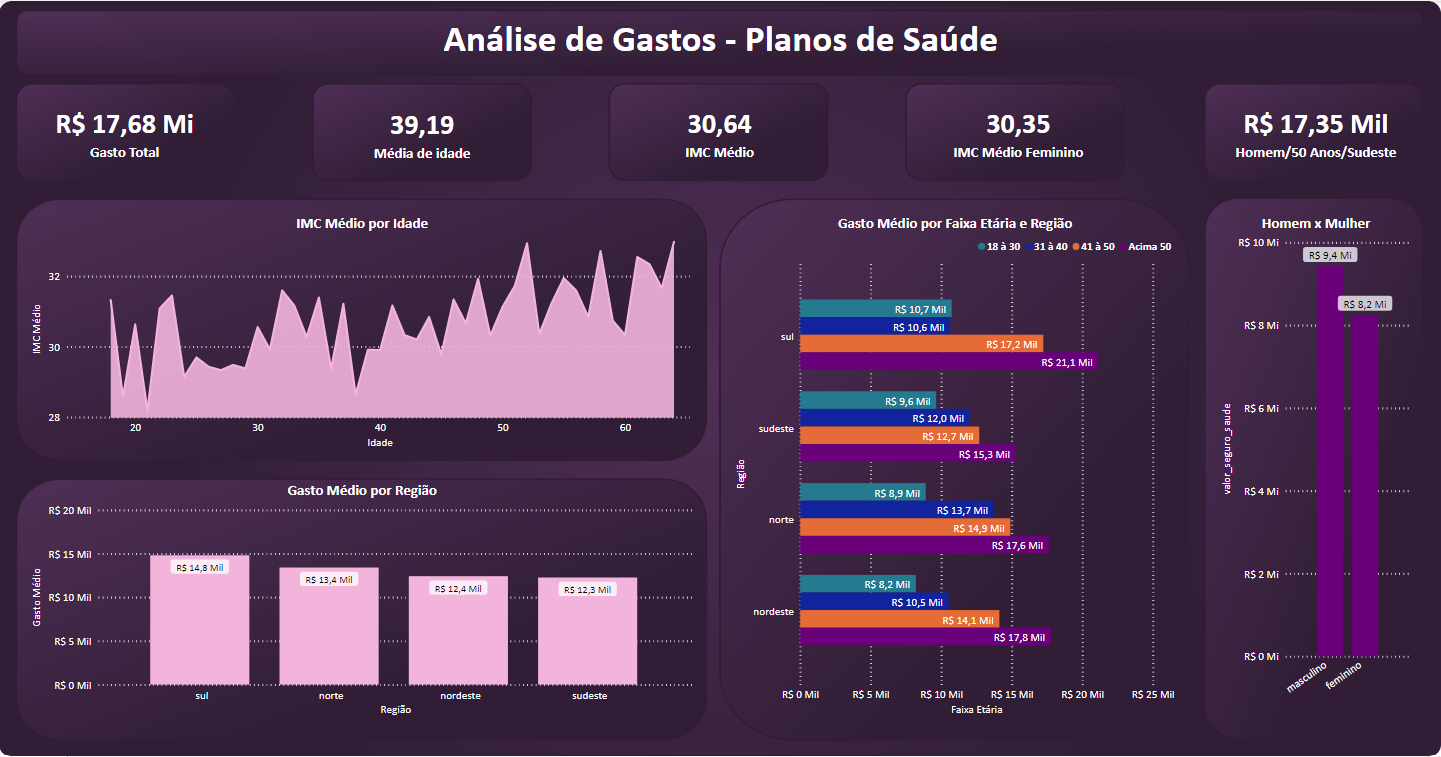

The dashboard page shown, as its layout file describes it:
{"tool":"powerbi","page":{"name":"Análise de Gastos","canvas":[2060,1080],"ordinal":0},"visuals":[{"type":"card","fields":{"Values":["Sum(seguro_saude.valor_seguro_saude)"]},"box":[24.3,120.4,309,133],"z":0},{"type":"card","fields":{"Values":["Avg(seguro_saude.idade)"]},"box":[449.9,121.4,309,131.1],"z":1000},{"type":"columnChart","title":"Gasto Médio por Região","fields":{"Category":["seguro_saude.regiao"],"Y":["Avg(seguro_saude.valor_seguro_saude)"]},"box":[41.2,685.4,955.1,340.8],"z":2000},{"type":"clusteredBarChart","title":"Gasto Médio por Faixa Etária e Região","fields":{"Y":["seguro_saude.#AVG_VSS_18_30","seguro_saude.#AVG_VSS_31_40","seguro_saude.#AVG_VSS_41_50","seguro_saude.#AVG_VSS_51"],"Category":["seguro_saude.regiao"]},"box":[1046.9,303.4,638.6,722.9],"z":3000},{"type":"scatterChart","title":"Idade x IMC","fields":{"Y":["seguro_saude.imc"],"X":["seguro_saude.idade"]},"box":[41.2,303.4,955.1,340.8],"z":4000},{"type":"columnChart","title":"Homem x Mulher","fields":{"Y":["Sum(seguro_saude.valor_seguro_saude)"],"Category":["seguro_saude.sexo"]},"box":[1739.8,303.4,280.9,722.9],"z":5000},{"type":"card","fields":{"Values":["seguro_saude.AVG_IMC_FEM"]},"box":[1301.1,120.4,309,133],"z":6000},{"type":"card","fields":{"Values":["Avg(seguro_saude.imc)"]},"box":[875.5,120.4,309,133],"z":7000},{"type":"card","fields":{"Values":["seguro_saude.AVG_MASC_50_SUDESTE"]},"box":[1726.7,120.4,309,133],"z":8000},{"type":"shape","box":[24.3,16.9,2011.3,76.8],"z":9000}]}

Visuals, with their boxes in screenshot pixels (x1, y1, x2, y2), scaled from the page's 2060x1080 canvas onto the 1441x757 screenshot:
card - Sum(seguro_saude.valor_seguro_saude): detection(17, 84, 233, 178)
card - Avg(seguro_saude.idade): detection(315, 85, 531, 177)
"Gasto Médio por Região" columnChart: detection(29, 480, 697, 719)
"Gasto Médio por Faixa Etária e Região" clusteredBarChart: detection(732, 213, 1179, 719)
"Idade x IMC" scatterChart: detection(29, 213, 697, 452)
"Homem x Mulher" columnChart: detection(1217, 213, 1414, 719)
card - seguro_saude.AVG_IMC_FEM: detection(910, 84, 1126, 178)
card - Avg(seguro_saude.imc): detection(612, 84, 829, 178)
card - seguro_saude.AVG_MASC_50_SUDESTE: detection(1208, 84, 1424, 178)
shape: detection(17, 12, 1424, 66)
